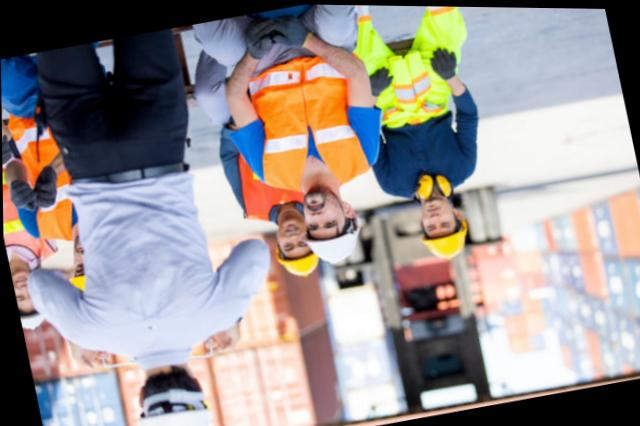helmet: (417, 220, 470, 261), (269, 244, 317, 288), (305, 226, 362, 261), (132, 402, 211, 426), (18, 313, 47, 337), (65, 268, 88, 291)
vest: (249, 49, 370, 195), (15, 100, 85, 243), (2, 143, 41, 264), (238, 164, 290, 217)
